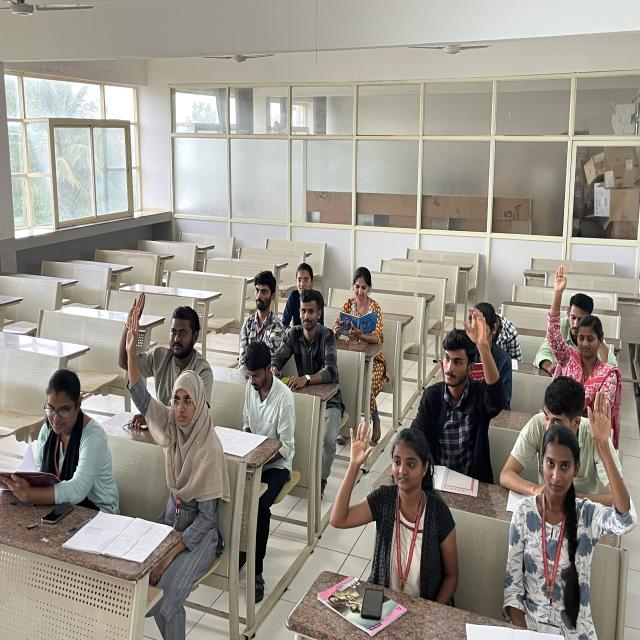Hand Rising: (510, 402, 634, 582), (329, 423, 456, 565), (125, 326, 216, 481), (421, 309, 508, 452), (118, 283, 210, 384), (543, 268, 616, 387)
Reading: (3, 374, 113, 515), (333, 269, 384, 346)
